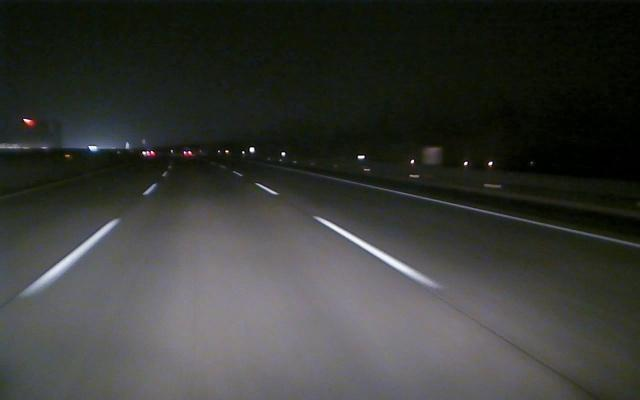lane: (311, 174, 638, 249), (257, 183, 444, 288), (14, 183, 158, 298)
